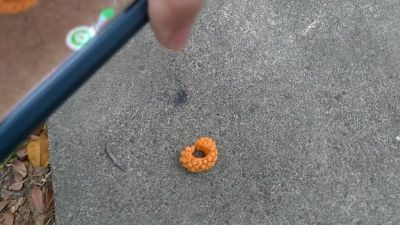eggs: (179, 135, 220, 176)
